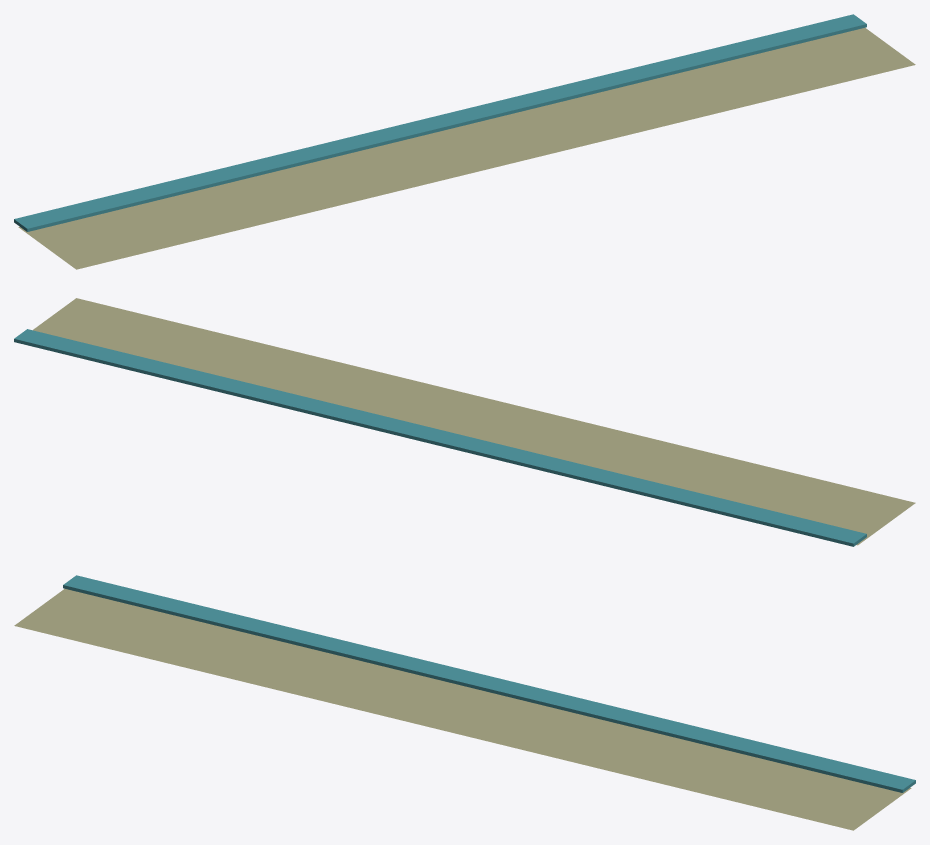
The model's file is water_shore_strip.glb.
3 views of the same model, one above another, from view 1: azimuth 30°, elevation 25°; view 2: azimuth 150°, elevation 25°; view 3: azimuth 330°, elevation 25° (orthographic).
Visible parts, largest first — view 1: shore, wet_edge; view 2: shore, wet_edge; view 3: shore, wet_edge.
Boxes of the visible parts, x1,y1,x2,y2 form: shore: (18, 28, 915, 269); wet_edge: (14, 14, 866, 231); shore: (33, 298, 915, 545); wet_edge: (14, 329, 866, 546); shore: (14, 589, 911, 830); wet_edge: (63, 575, 915, 792).
Bounding box in the file's own units: 4 × 0.0225 × 0.515.
